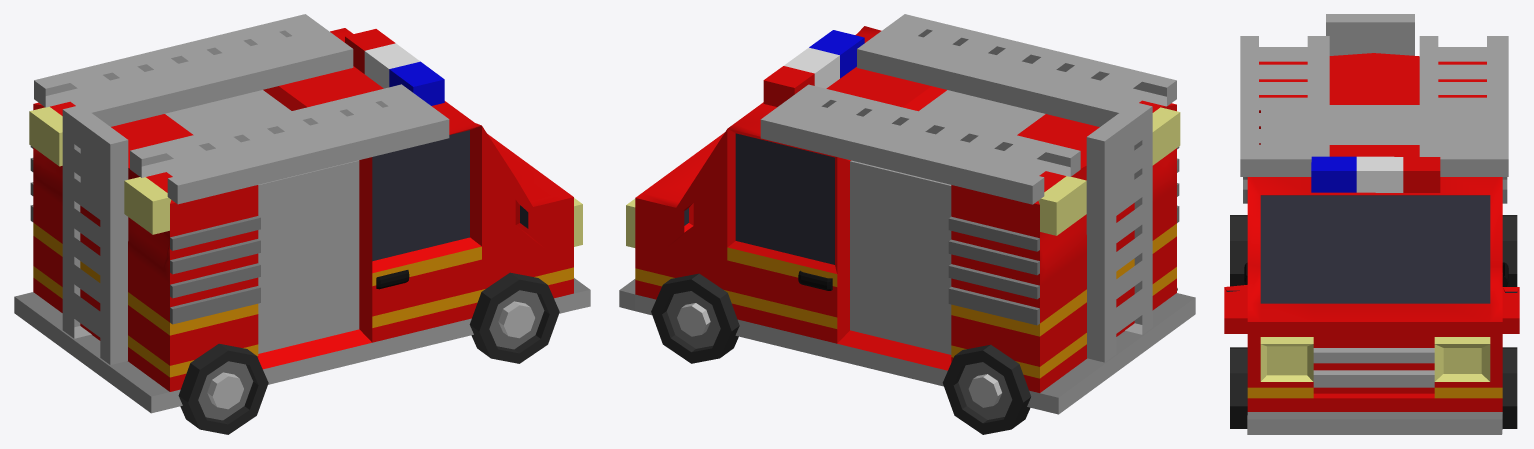
The model's file is fire_truck1.fbx.
3 views of the same model, side by side, from view 1: azimuth 30°, elevation 25°; view 2: azimuth 150°, elevation 25°; view 3: azimuth 270°, elevation 25° (orthographic). The views are drawn at different scales.
Visible parts, largest first — view 1: body, pCube5, pCube6, pCube7, wheel16, wheel17, siren; view 2: body, pCube6, pCube5, pCube7, wheel, wheel18, siren; view 3: body, pCube5, pCube6, siren, pCube7, wheel16, wheel, wheel17, wheel18.
Boxes of the visible parts, <box> form: body: <box>14,28,590,413</box>; pCube5: <box>130,84,449,204</box>; pCube6: <box>34,14,353,126</box>; pCube7: <box>62,105,128,364</box>; wheel16: <box>469,272,559,363</box>; wheel17: <box>178,343,268,434</box>; siren: <box>345,29,444,105</box>; body: <box>619,26,1195,414</box>; pCube6: <box>760,84,1080,204</box>; pCube5: <box>857,14,1176,126</box>; pCube7: <box>1086,102,1152,362</box>; wheel: <box>651,273,739,363</box>; wheel18: <box>942,344,1031,434</box>; siren: <box>763,30,864,106</box>; body: <box>1224,53,1519,434</box>; pCube5: <box>1240,36,1329,176</box>; pCube6: <box>1419,36,1508,176</box>; siren: <box>1311,156,1440,192</box>; pCube7: <box>1326,14,1414,55</box>; wheel16: <box>1230,347,1247,428</box>; wheel: <box>1502,347,1517,428</box>; wheel17: <box>1230,215,1247,286</box>; wheel18: <box>1502,215,1517,286</box>.
Bounding box in the file's own units: 9.38 × 5.49 × 5.87.
